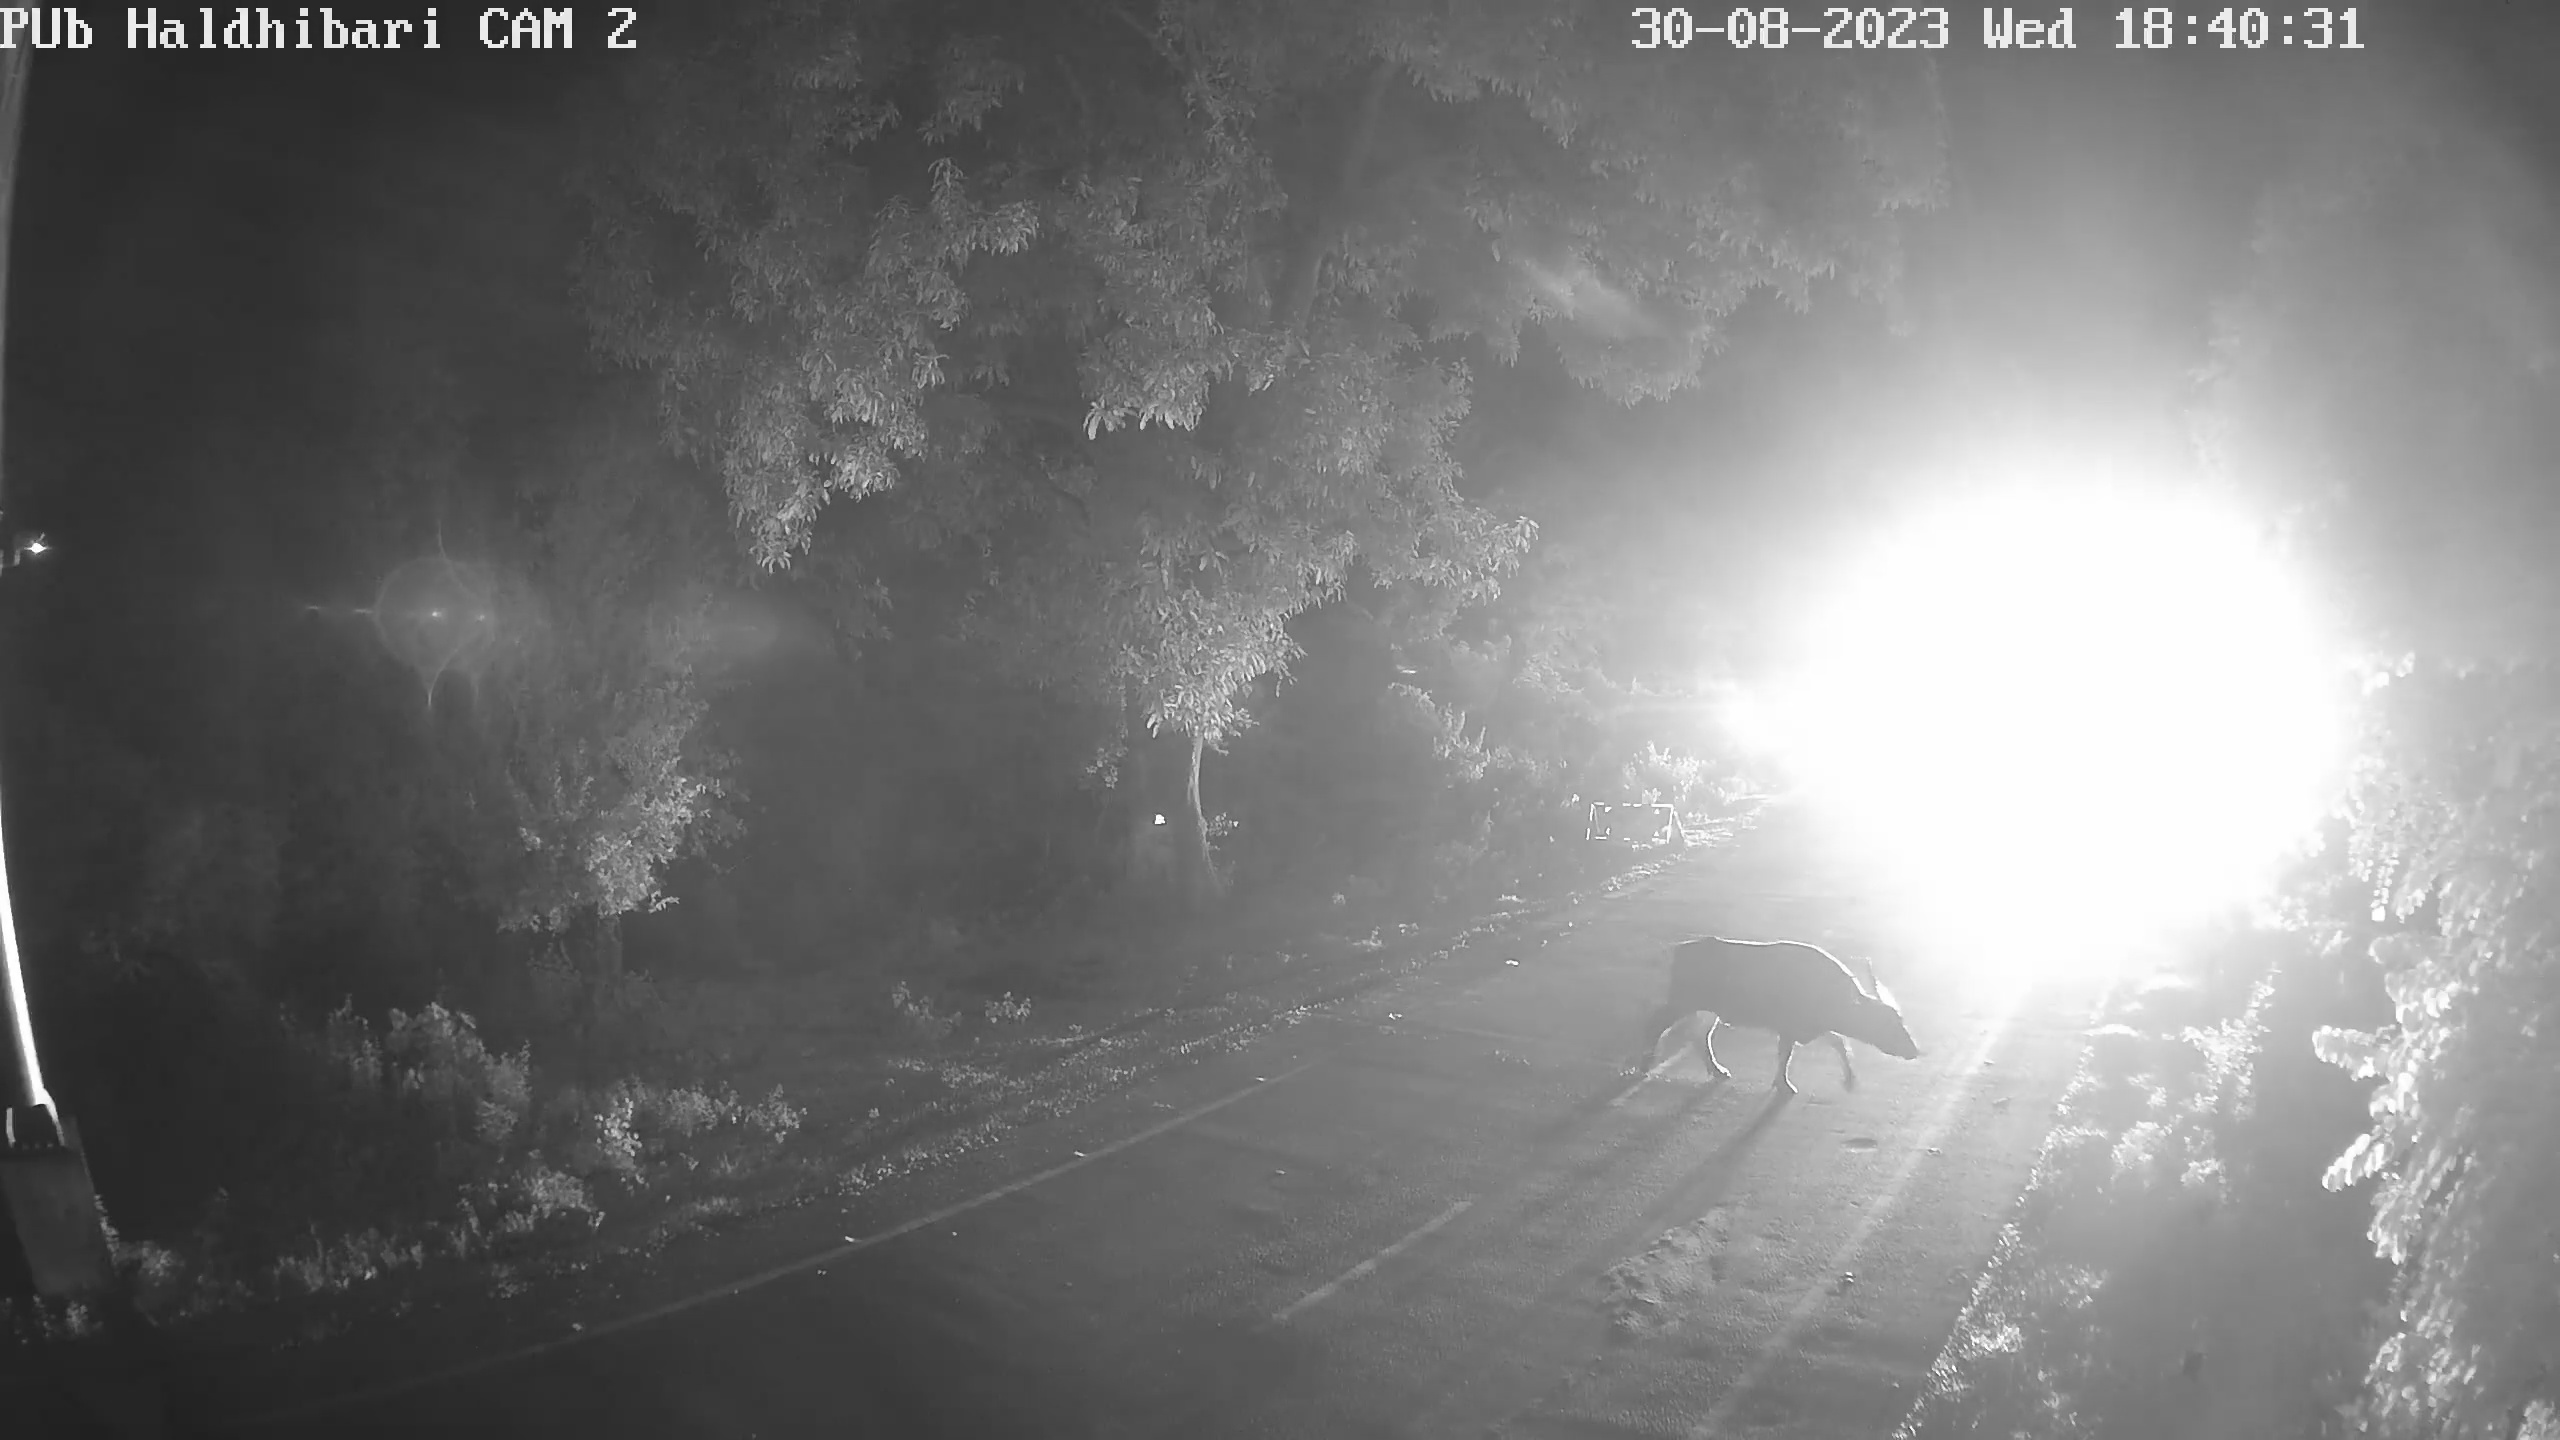buffaloes: (1658, 937, 1916, 1111)
